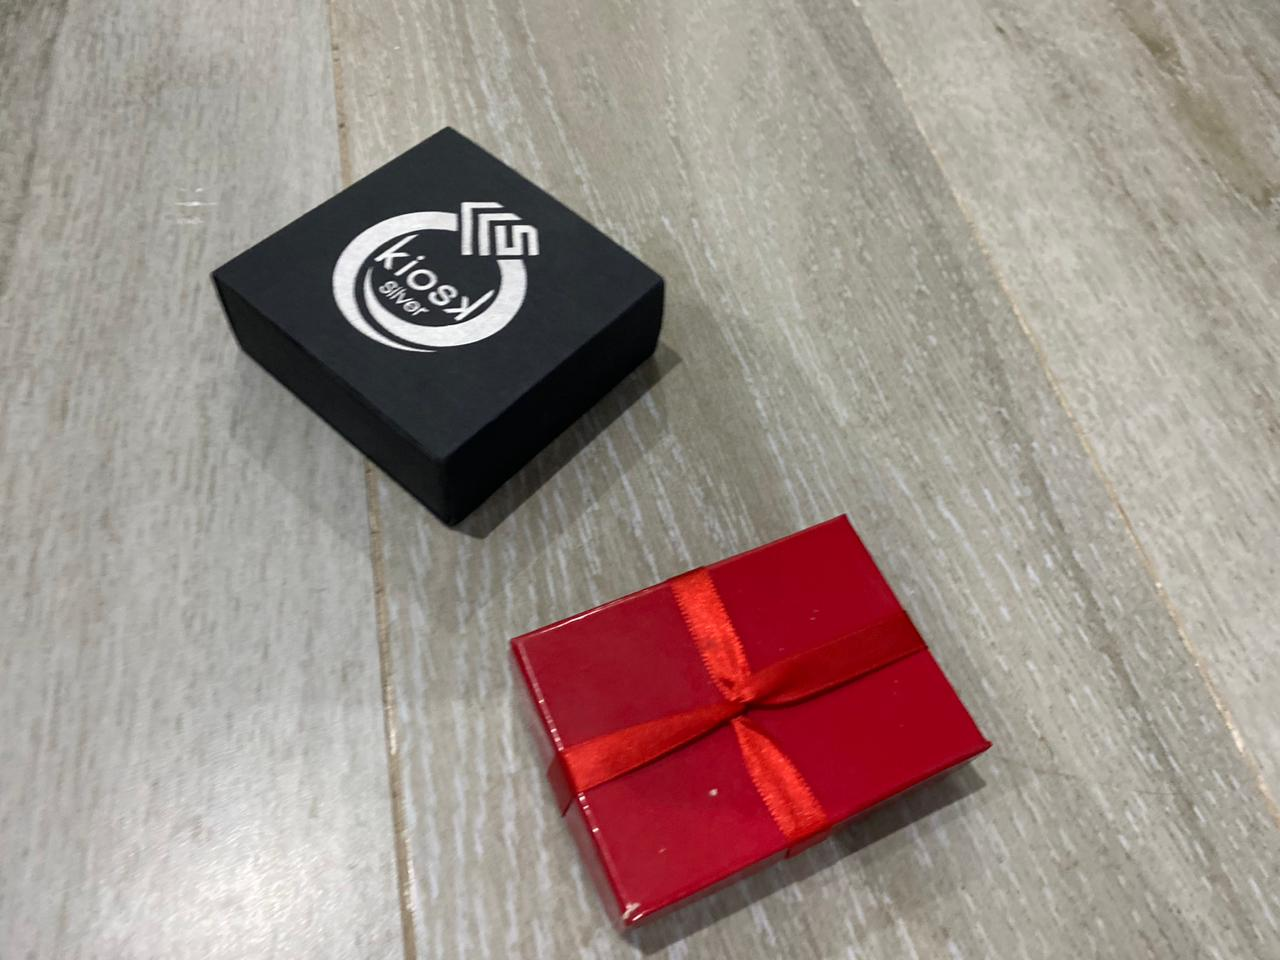Black Box: (501, 510, 996, 938)
Red Box: (207, 125, 676, 530)
